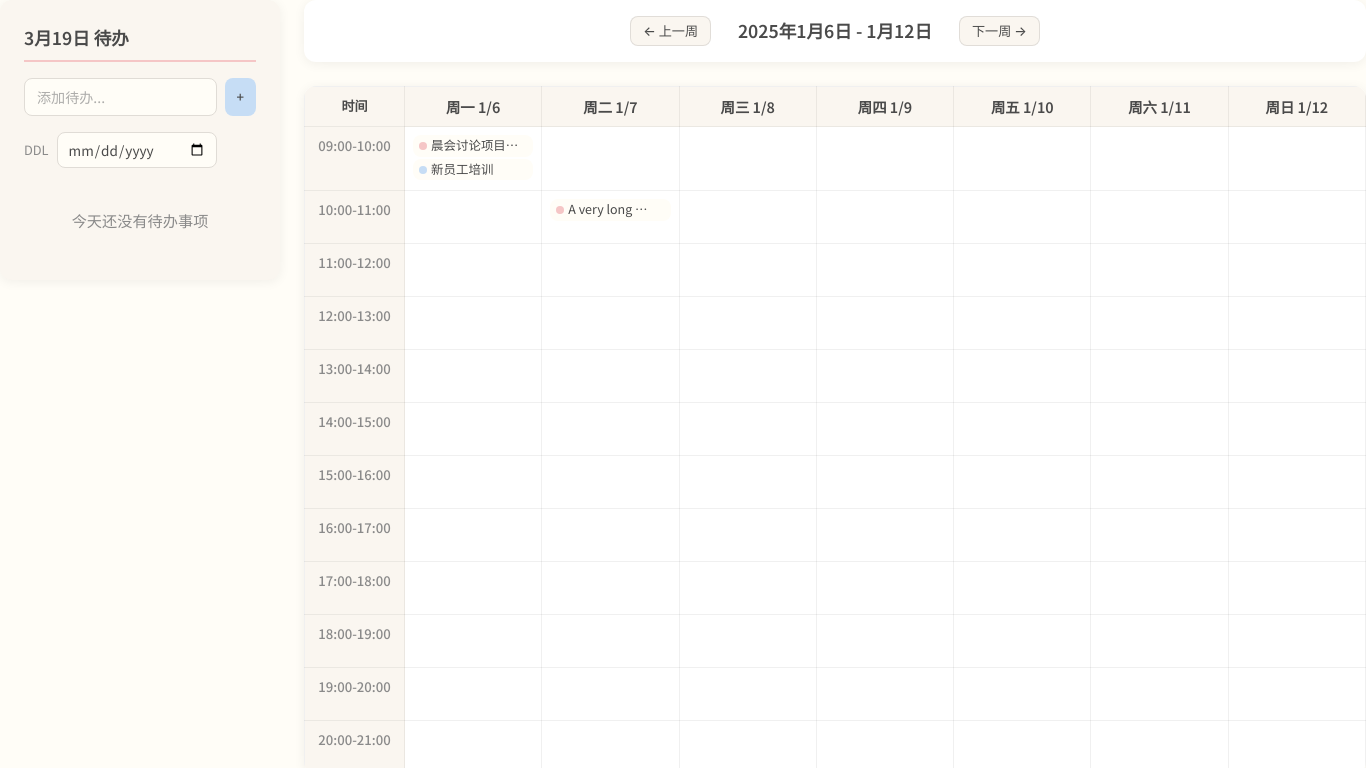
Test case: CalendarPage › sets selectedCell state when clicking a cell
Expected: the column heading "周一 1/6" is shown, [404,87,542,127]
Note: Click on a cell with entries
Click the cell named "2025-01-06 09:00-10:00".
click(473, 159)  # box [404,127,542,191]
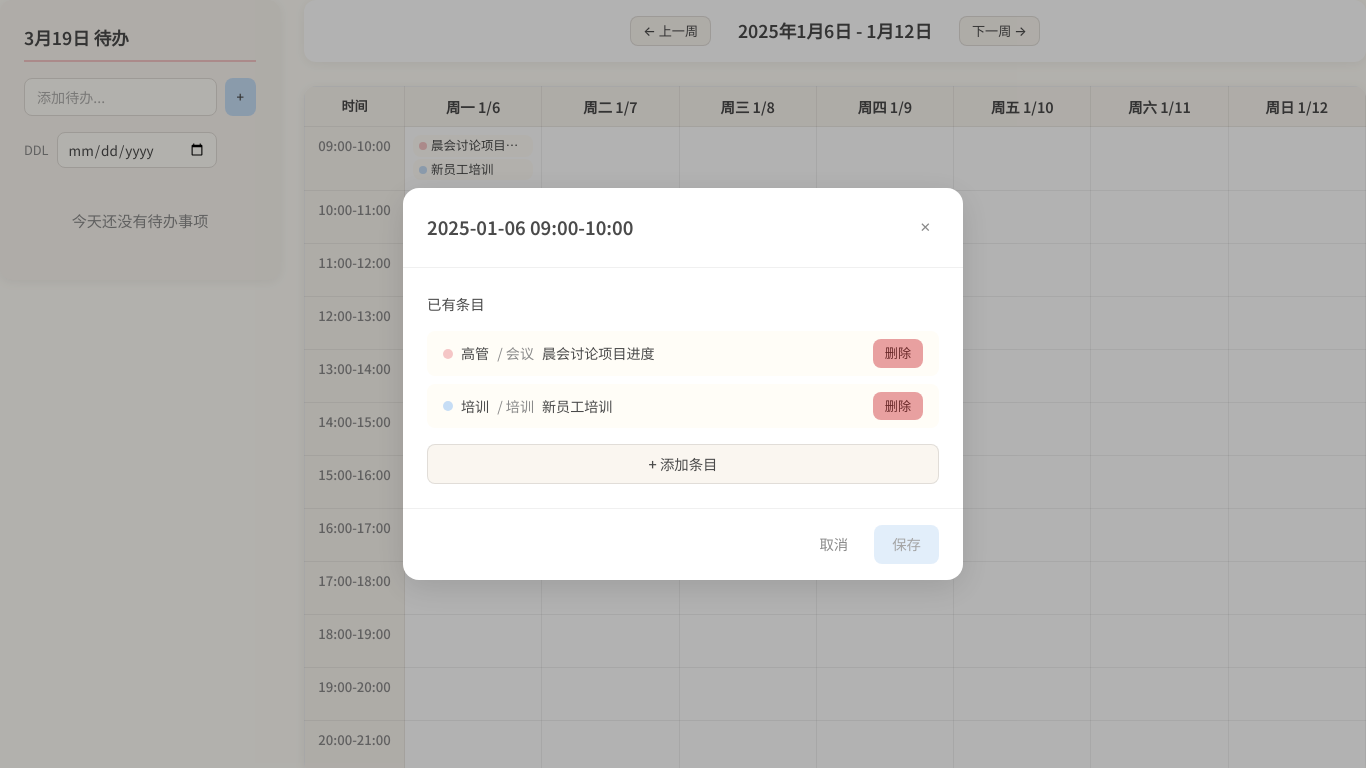
Expected: the heading "2025-01-06 09:00-10:00" is shown, [427,213,633,243]
